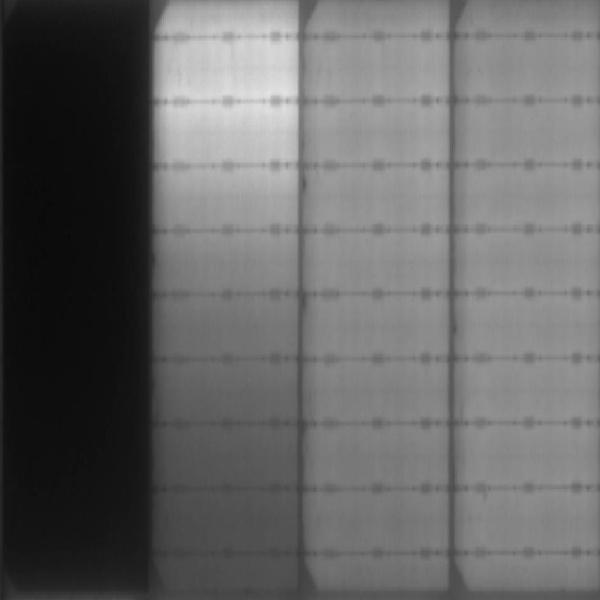no_electricity: (1, 1, 147, 596)
